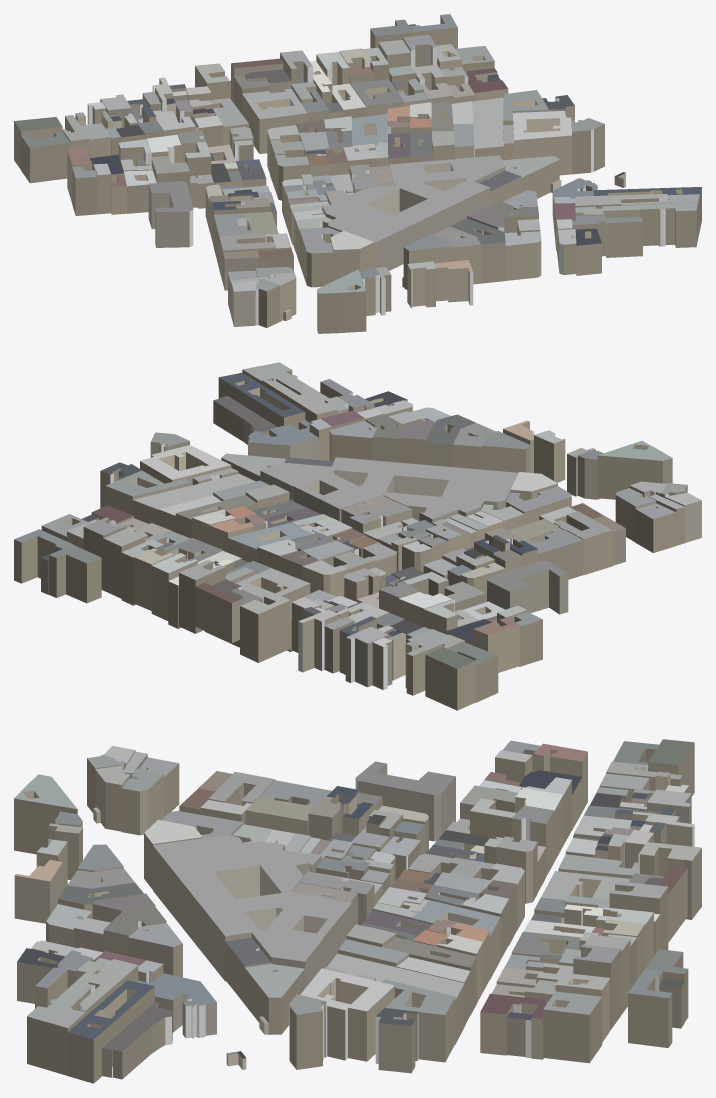
3 renders of one model, top to bottom at view 1: azimuth 30°, elevation 25°; view 2: azimuth 150°, elevation 25°; view 3: azimuth 270°, elevation 25°, orthographic. The views are drawn at different scales.
Parts seen in each view (by area): view 1: tuile; view 2: tuile; view 3: tuile.
Part boxes in pixels (x1=…): tuile: x1=14, y1=14, x2=701, y2=333; tuile: x1=14, y1=362, x2=701, y2=710; tuile: x1=14, y1=739, x2=701, y2=1083.
Bounding box in the file's own units: 272 × 32.49 × 267.
